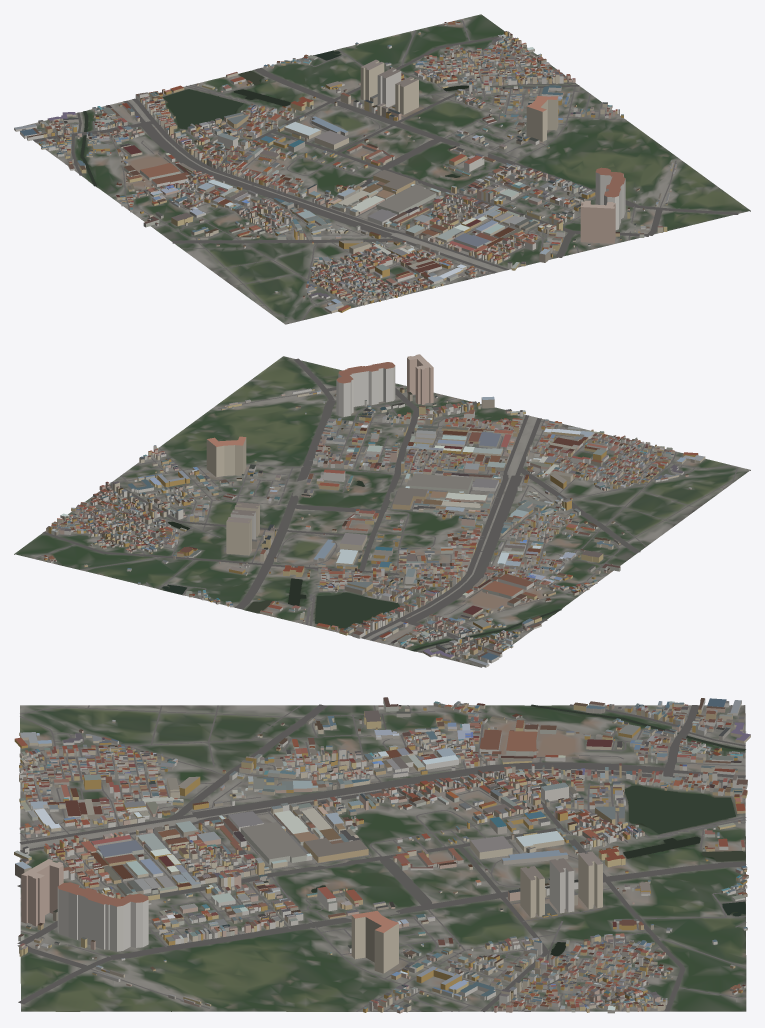
3 renders of one model, top to bottom at view 1: azimuth 30°, elevation 25°; view 2: azimuth 150°, elevation 25°; view 3: azimuth 270°, elevation 25°, orthographic. The views are drawn at different scales.
Parts seen in each view (by area): view 1: ground, buildings, roads, water; view 2: ground, buildings, roads, water; view 3: ground, buildings, roads, water.
Part boxes in pixels (x1=…): ground: x1=24, y1=14, x2=750, y2=324; buildings: x1=14, y1=21, x2=677, y2=313; roads: x1=33, y1=19, x2=738, y2=321; water: x1=80, y1=50, x2=468, y2=186; ground: x1=14, y1=356, x2=750, y2=667; buildings: x1=43, y1=354, x2=705, y2=667; roads: x1=35, y1=358, x2=737, y2=660; water: x1=162, y1=480, x2=561, y2=651; ground: x1=20, y1=705, x2=746, y2=1011; buildings: x1=14, y1=697, x2=750, y2=1013; roads: x1=17, y1=704, x2=746, y2=1011; water: x1=311, y1=704, x2=745, y2=956.
Bounding box in the file's own units: 1423 × 106 × 1424.
